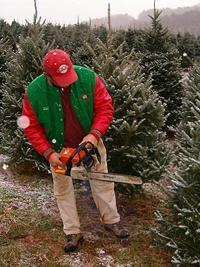person: (21, 50, 130, 253)
